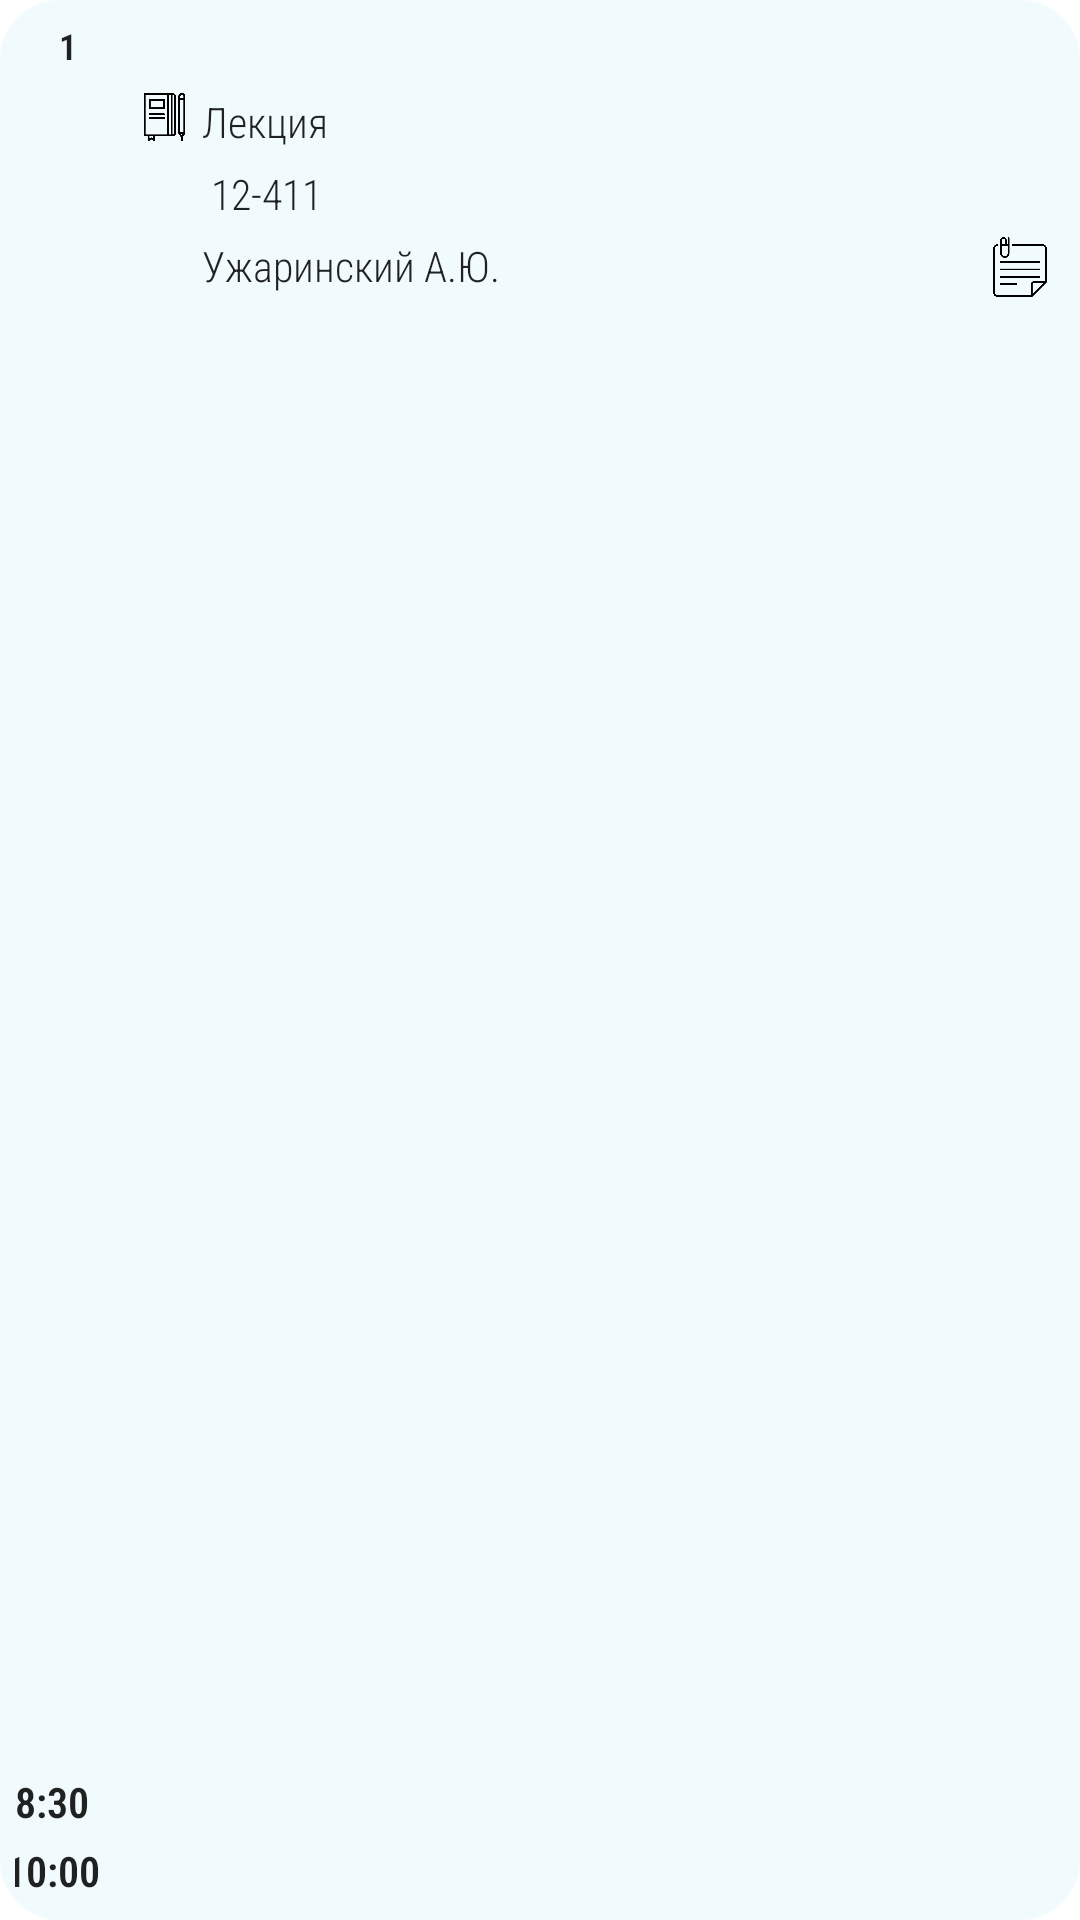

Icon click points for this 1080px×1920px phone screenshot, format [x,y]:
bottom menu notes: [1020,267]
type lesson: [164,117]
